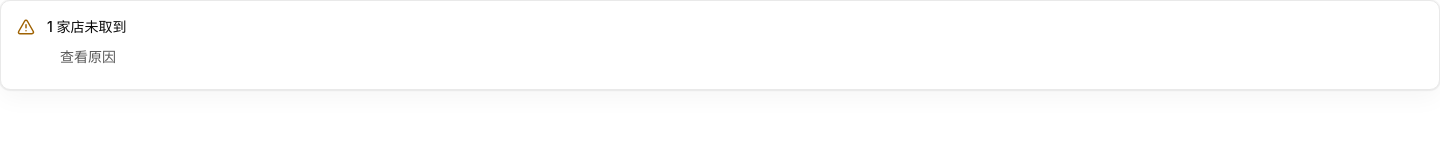
Test: ShopFailureAlert › 同一家店多个来源失败只算一家，保留第一条原因
Check: the message shows "1 家店未取到", box [47,18,126,35]
Click the button "查看原因".
click(88, 57)  # box [47,41,129,73]
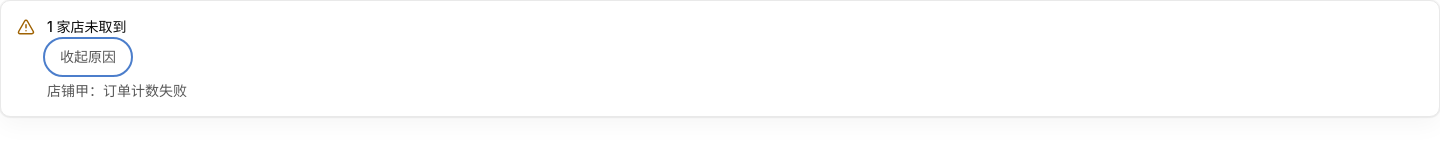
Check: the list item reads "店铺甲：订单计数失败", box [47,82,187,99]
